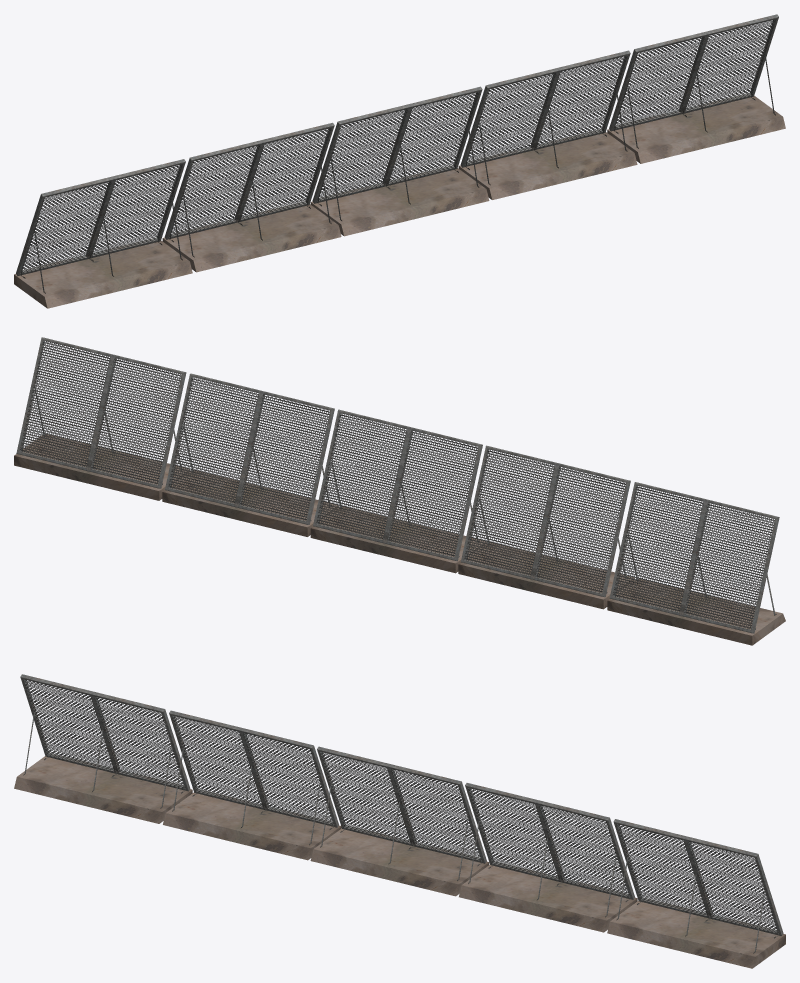
File: blastbreaker.fbx
3 views of the same model, one above another, from view 1: azimuth 30°, elevation 25°; view 2: azimuth 150°, elevation 25°; view 3: azimuth 330°, elevation 25° (orthographic).
Visible parts, largest first — view 1: blastbreaker_5er, blastbreaker_1er; view 2: blastbreaker_5er, blastbreaker_1er; view 3: blastbreaker_5er, blastbreaker_1er.
Boxes of the visible parts, x1,y1,x2,y2 form: blastbreaker_5er: (14,14,785,308); blastbreaker_1er: (310,86,489,236); blastbreaker_5er: (14,337,785,645); blastbreaker_1er: (310,409,486,573); blastbreaker_5er: (14,674,785,968); blastbreaker_1er: (310,746,489,896).
Bounding box in the file's own units: 1445 × 204 × 114.
